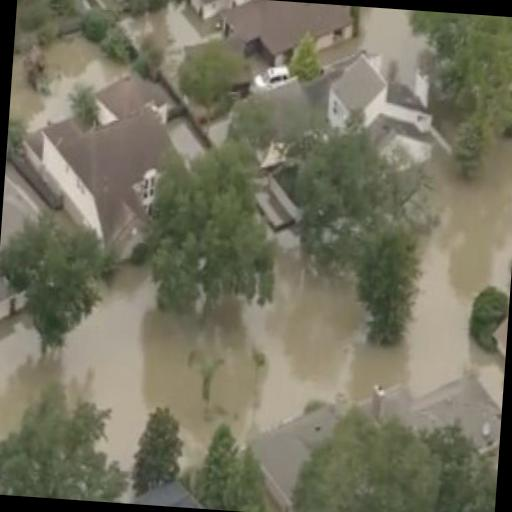flood: (0, 139, 512, 472), (9, 37, 129, 130), (321, 7, 429, 88)
house: (214, 41, 447, 248), (236, 354, 504, 512), (23, 86, 183, 257), (245, 0, 360, 66), (102, 469, 225, 510), (177, 0, 239, 25)
